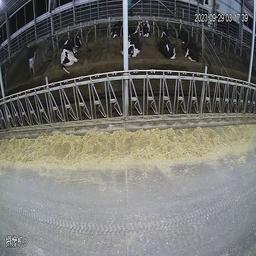cow: (59, 35, 82, 73), (178, 26, 199, 62), (160, 25, 176, 60), (128, 24, 140, 57), (138, 16, 151, 39), (109, 20, 122, 39)
